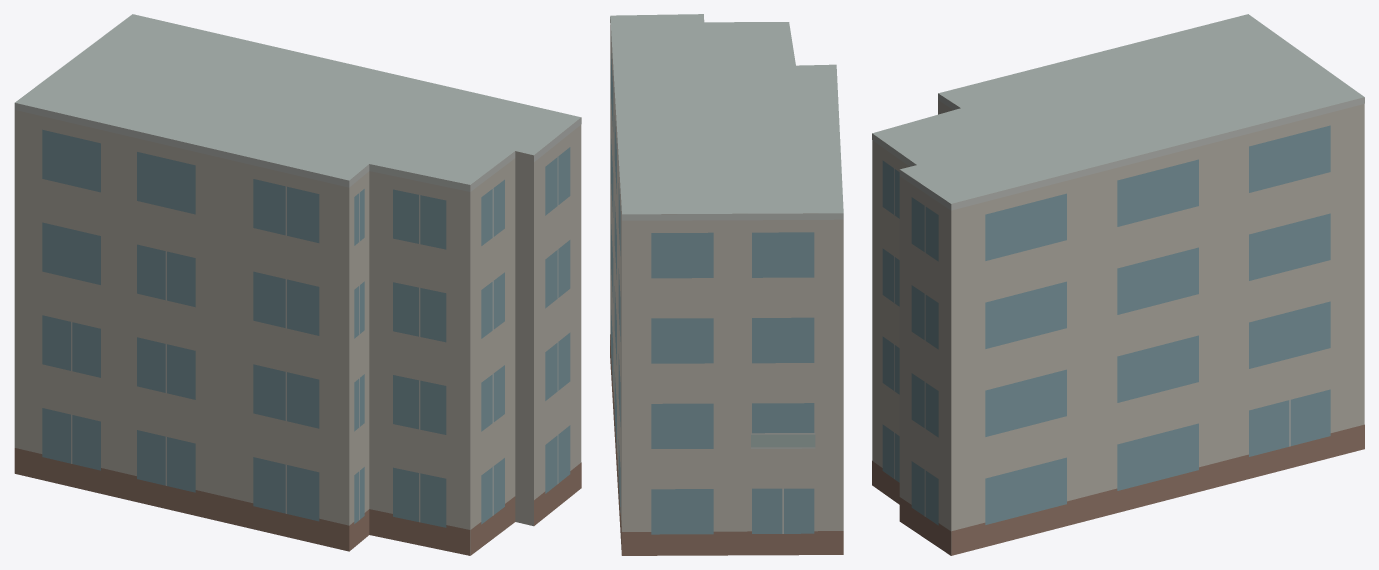
Rendered from survey-upis-32965999.glb.
The picture shows the model from 3 angles, left to right: view 1: azimuth 30°, elevation 25°; view 2: azimuth 150°, elevation 25°; view 3: azimuth 270°, elevation 25°; orthographic projection. The views are drawn at different scales.
Visible parts, largest first — view 1: survey-upis-32965999.tmp; view 2: survey-upis-32965999.tmp; view 3: survey-upis-32965999.tmp.
Boxes of the visible parts, x1=… form: survey-upis-32965999.tmp: x1=14, y1=14, x2=581, y2=555; survey-upis-32965999.tmp: x1=610, y1=14, x2=843, y2=555; survey-upis-32965999.tmp: x1=872, y1=14, x2=1364, y2=555.
Bounding box in the file's own units: 14.82 × 12.8 × 16.25.
